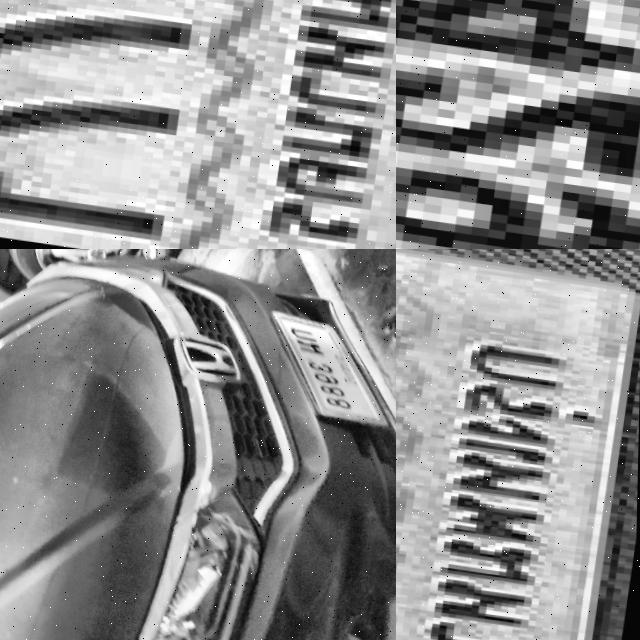license-plate: (0, 0, 396, 249), (396, 249, 640, 640), (396, 0, 640, 249), (252, 305, 396, 427)
